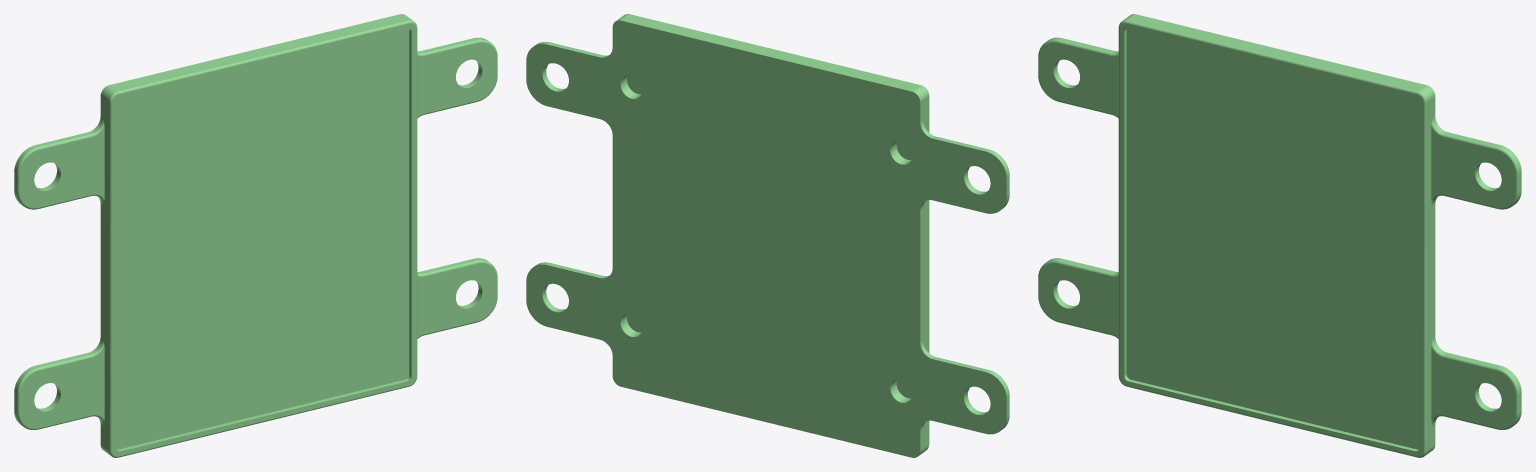
File: button_plate.glb
3 views of the same model, side by side, from view 1: azimuth 30°, elevation 25°; view 2: azimuth 150°, elevation 25°; view 3: azimuth 330°, elevation 25° (orthographic).
Visible parts, largest first — view 1: matt_holder_80x70_green; view 2: matt_holder_80x70_green; view 3: matt_holder_80x70_green.
Part boxes in pixels (x1,y1,x2,y2): matt_holder_80x70_green: [14, 14, 497, 457]; matt_holder_80x70_green: [526, 14, 1009, 457]; matt_holder_80x70_green: [1038, 14, 1521, 457].
Size of the model in its own units: 0.114 by 0.083 by 0.004.
